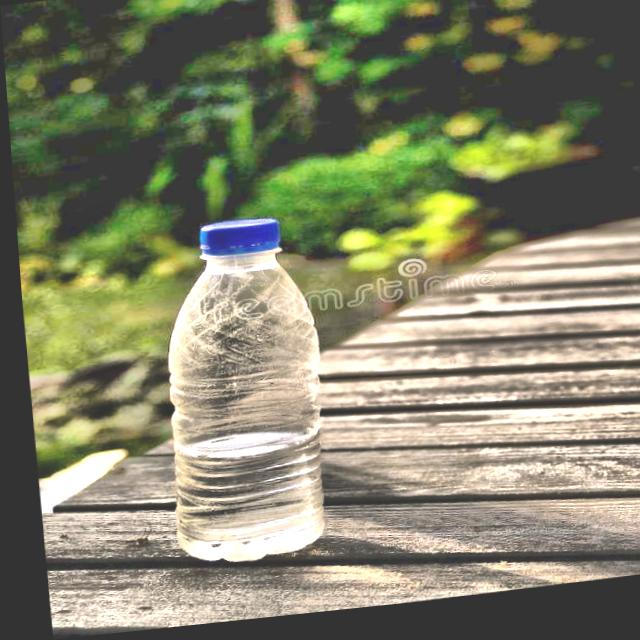Bottles: (111, 200, 366, 588)
